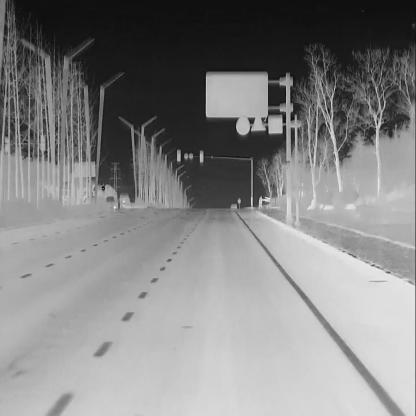car: (103, 195, 117, 211), (118, 192, 130, 207), (230, 202, 237, 211)
